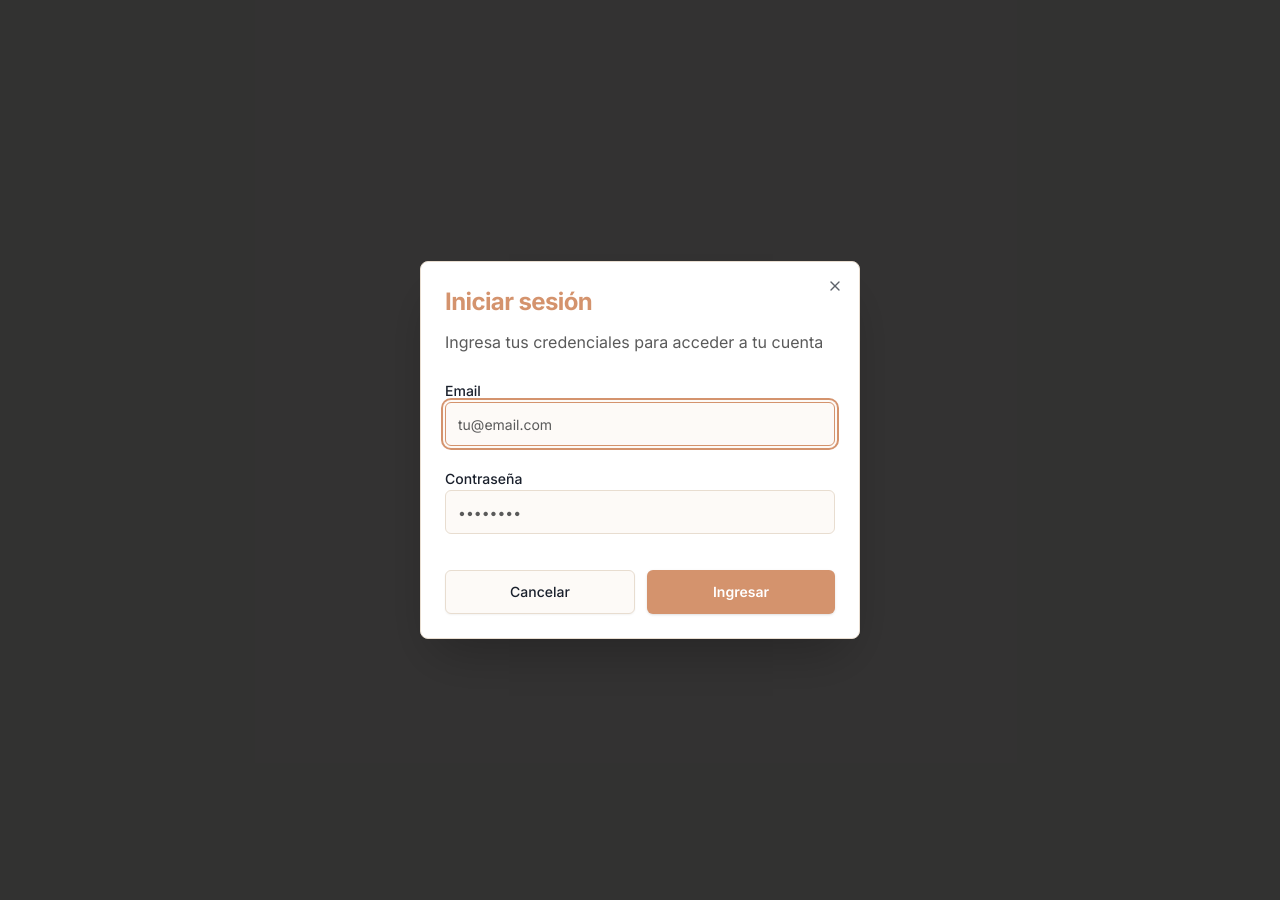
Test: LoginModal › should display inactive user message for forbidden error (403)
Type "inactive@example.com" into the field labelled "Email" at (640, 424), box [445,402,835,446]
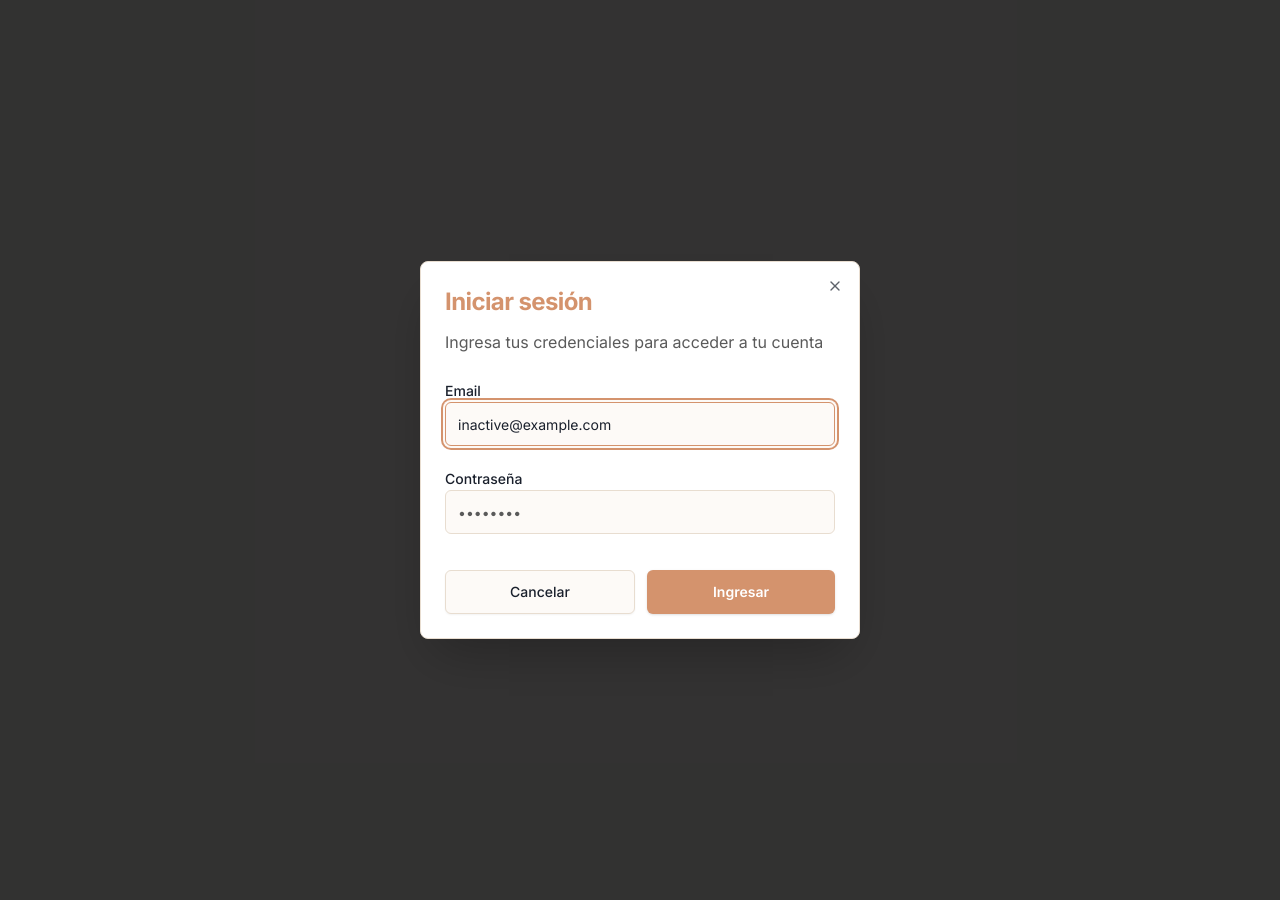
Type "password123" into the password field labelled "Contraseña" at (640, 512), box [445,490,835,534]
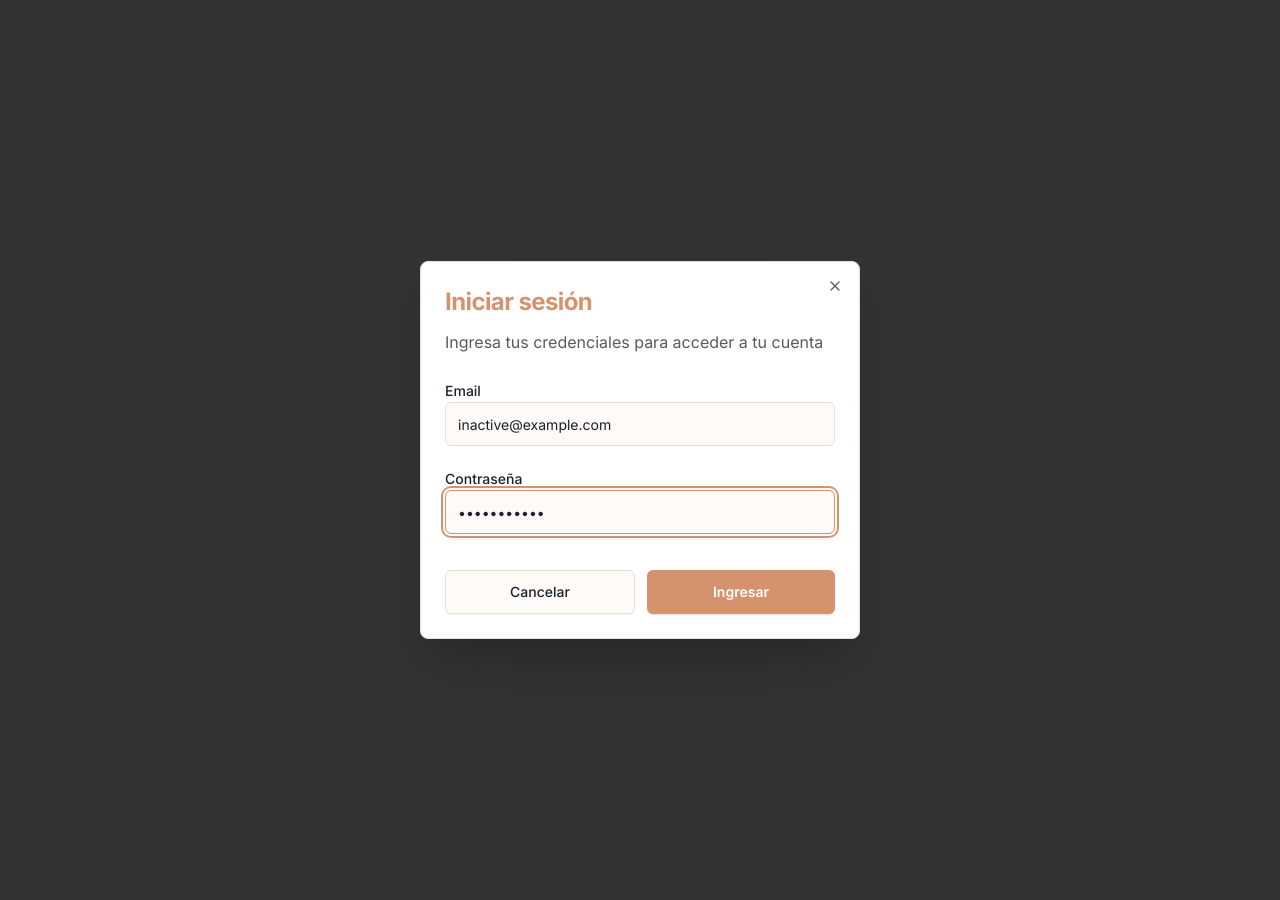
Click the button "Ingresar" at (741, 592), box [647,570,835,614]
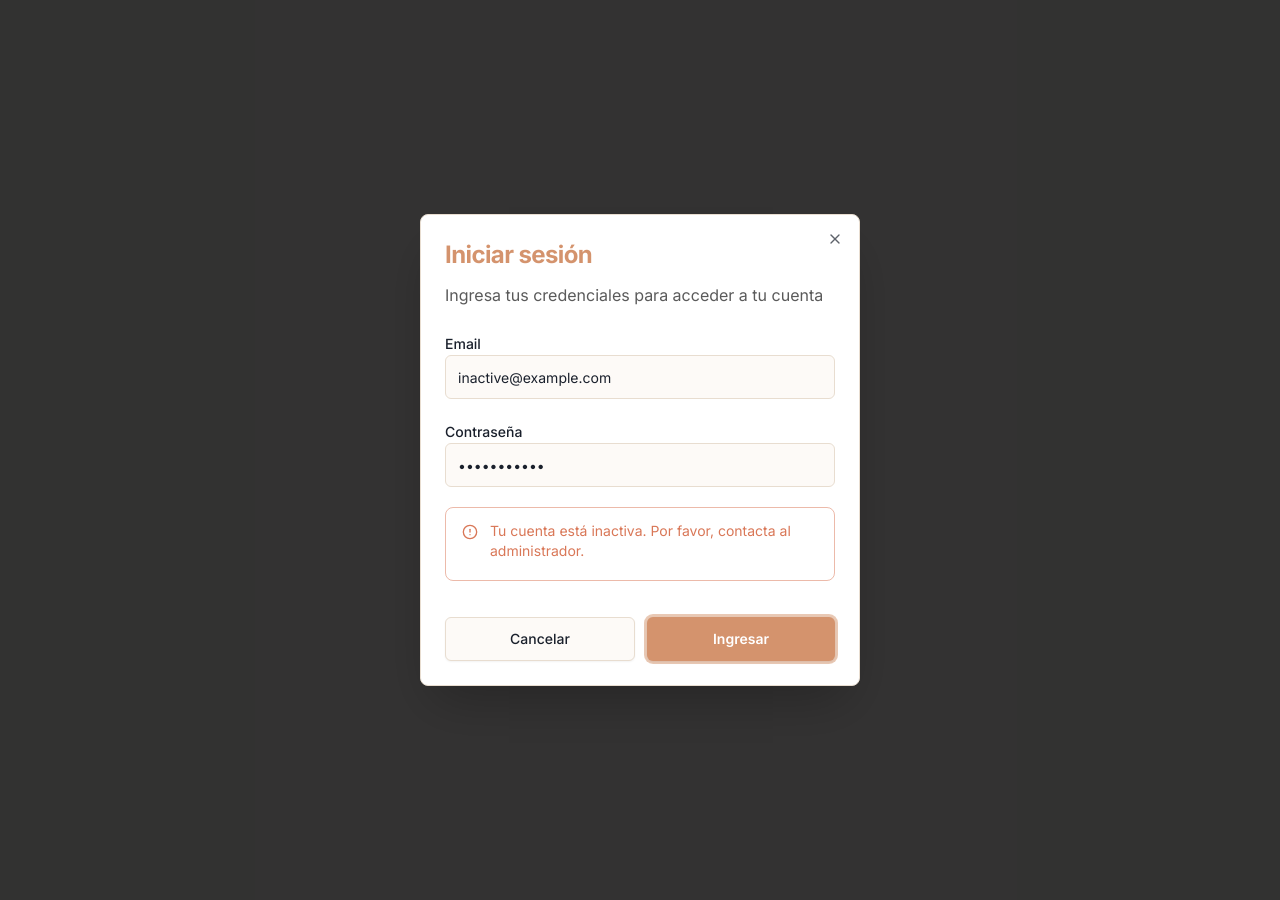
Expected: the text "Tu cuenta está inactiva" is shown, [490,522,791,559]
